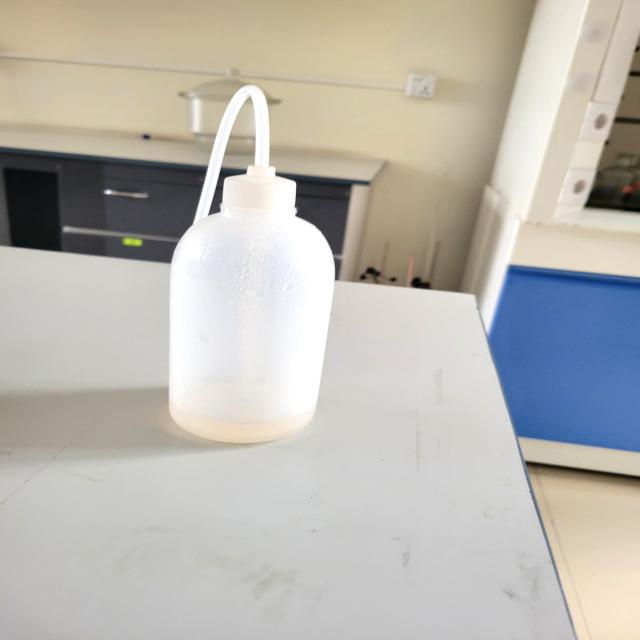Wash_Bottle: (147, 75, 350, 464)
